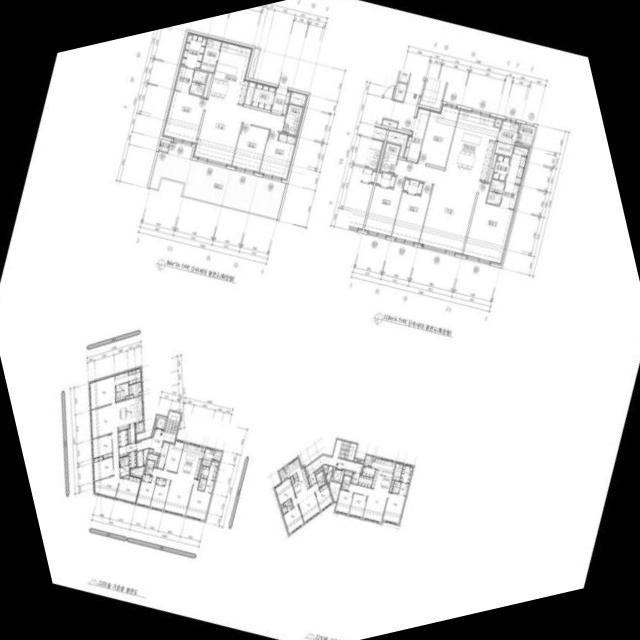background: (0, 0, 640, 640)
space_balconi: (278, 467, 287, 482), (212, 450, 222, 461), (363, 455, 372, 467), (135, 421, 143, 433)
space_bedroom: (462, 181, 514, 265), (418, 103, 459, 167), (391, 183, 432, 244), (364, 176, 405, 237), (161, 90, 206, 144), (259, 130, 297, 180), (231, 123, 268, 173), (185, 479, 211, 521), (89, 375, 115, 409), (382, 492, 405, 524), (115, 475, 141, 503), (163, 440, 184, 472), (136, 476, 156, 507), (283, 504, 303, 534), (150, 480, 170, 510), (274, 478, 295, 505), (314, 483, 333, 511), (92, 456, 113, 481), (92, 434, 112, 459), (348, 493, 367, 518), (335, 490, 353, 514), (403, 178, 423, 195), (375, 171, 395, 188), (155, 477, 165, 485), (142, 474, 152, 482)
space_dressroom: (179, 32, 207, 69), (505, 143, 530, 184), (499, 182, 520, 209), (492, 155, 510, 180), (399, 464, 413, 483), (128, 367, 141, 385), (207, 461, 218, 480), (200, 466, 209, 478)
space_elevator: (419, 76, 445, 109), (153, 415, 166, 430), (331, 468, 344, 482)
space_elevator_hall: (374, 73, 424, 132), (136, 400, 183, 454), (305, 455, 362, 475)
space_front: (403, 107, 430, 162), (271, 87, 291, 115), (156, 441, 169, 469), (119, 442, 136, 457), (118, 429, 127, 446), (128, 450, 136, 469), (307, 473, 317, 486), (350, 472, 360, 485)
space_kitchen: (445, 108, 500, 181), (208, 41, 252, 105), (176, 442, 204, 478), (284, 457, 309, 497), (116, 395, 143, 431), (371, 457, 395, 492)
space_living_room: (394, 159, 479, 255), (192, 97, 285, 166), (90, 403, 119, 498), (151, 468, 194, 516), (348, 483, 388, 523), (292, 482, 320, 523)
space_multipurpose_space: (495, 119, 520, 156), (200, 37, 221, 72)
space_other: (251, 82, 276, 110), (386, 130, 408, 157), (247, 47, 260, 78), (244, 80, 255, 105), (394, 82, 407, 101), (289, 91, 306, 105), (329, 481, 340, 501), (203, 73, 212, 97), (202, 448, 214, 466), (392, 462, 403, 481), (357, 475, 373, 487), (129, 382, 141, 397), (127, 423, 135, 444), (398, 70, 410, 83), (361, 466, 375, 477), (381, 119, 397, 128), (147, 453, 158, 466), (131, 466, 144, 476), (326, 466, 333, 483), (137, 450, 143, 467), (143, 448, 149, 465), (494, 117, 502, 127), (314, 467, 322, 475), (389, 480, 394, 492), (198, 465, 202, 479), (323, 465, 328, 475), (344, 470, 352, 476), (353, 459, 363, 463), (125, 394, 133, 399), (290, 476, 294, 484), (151, 429, 154, 437), (122, 475, 129, 478), (148, 448, 153, 452), (201, 447, 205, 451), (280, 504, 283, 508), (138, 392, 142, 395), (372, 457, 375, 461)
space_outdoor_room: (516, 123, 535, 146), (158, 139, 170, 152)
space_staircase: (332, 439, 356, 460), (169, 412, 181, 435)
space_toilet: (173, 66, 207, 96), (282, 104, 302, 135), (380, 142, 400, 173), (391, 480, 408, 496), (115, 382, 128, 401), (489, 179, 505, 193), (486, 191, 502, 205), (114, 371, 128, 385), (282, 498, 293, 514), (144, 459, 154, 475), (315, 471, 325, 487), (341, 475, 351, 490), (204, 479, 214, 492), (120, 465, 129, 476), (197, 483, 205, 491), (119, 457, 124, 467), (199, 478, 206, 485), (124, 455, 128, 466)
